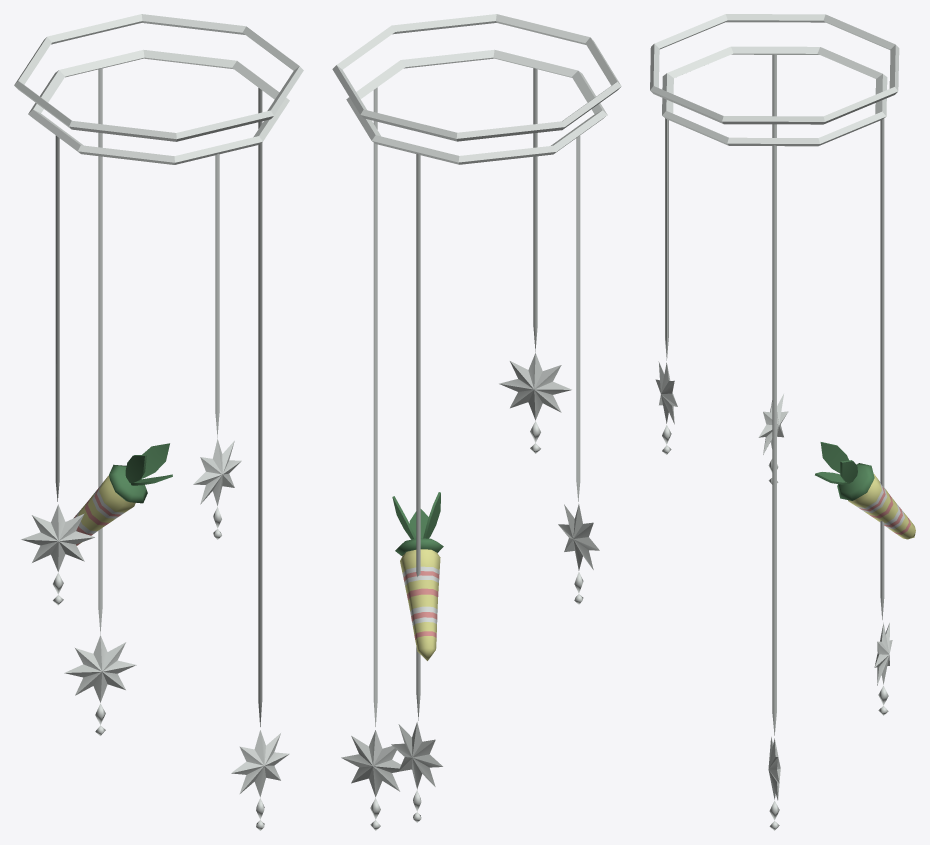
The picture shows the model from 3 angles, left to right: view 1: azimuth 30°, elevation 25°; view 2: azimuth 150°, elevation 25°; view 3: azimuth 270°, elevation 25°; orthographic projection. The views are drawn at different scales.
Visible parts, largest first — view 1: G:\FFXIV-MapTools\exports\u5f1\bg\ex4\04_uvs_u5\fld\u5f1\bgp (×5); view 2: G:\FFXIV-MapTools\exports\u5f1\bg\ex4\04_uvs_u5\fld\u5f1\bgp (×5); view 3: G:\FFXIV-MapTools\exports\u5f1\bg\ex4\04_uvs_u5\fld\u5f1\bgp (×5).
Boxes of the visible parts, x1,y1,x2,y2 form: G:\FFXIV-MapTools\exports\u5f1\bg\ex4\04_uvs_u5\fld\u5f1\bgp (×5): (14,14,303,830); G:\FFXIV-MapTools\exports\u5f1\bg\ex4\04_uvs_u5\fld\u5f1\bgp (×5): (332,14,621,830); G:\FFXIV-MapTools\exports\u5f1\bg\ex4\04_uvs_u5\fld\u5f1\bgp (×5): (650,14,915,830).
Bounding box in the file's own units: 1.94 × 5.49 × 1.84.
